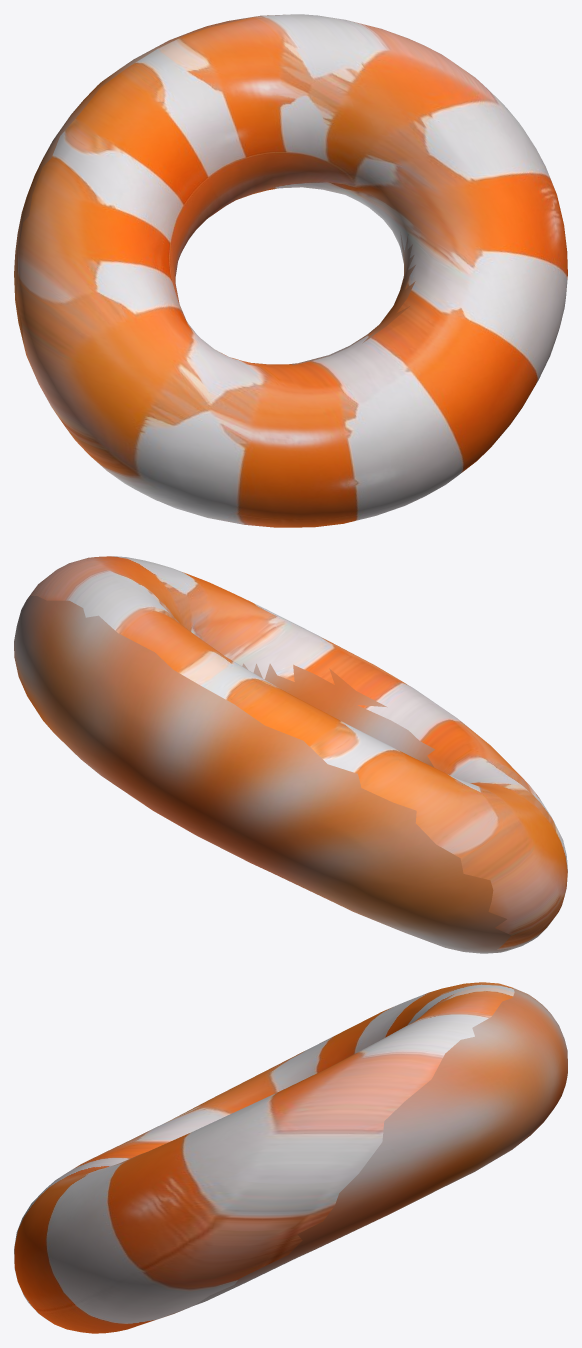
File: pool_ring.glb
3 views of the same model, one above another, from view 1: azimuth 30°, elevation 25°; view 2: azimuth 150°, elevation 25°; view 3: azimuth 270°, elevation 25° (orthographic). The views are drawn at different scales.
Visible parts, largest first — view 1: pool_ring; view 2: pool_ring; view 3: pool_ring.
Boxes of the visible parts, <box> form: pool_ring: <box>14,14,567,527</box>; pool_ring: <box>14,556,567,953</box>; pool_ring: <box>14,982,567,1333</box>.
Size of the model in its own units: 3 by 2.15 by 3.
1 material, 1 textured.
